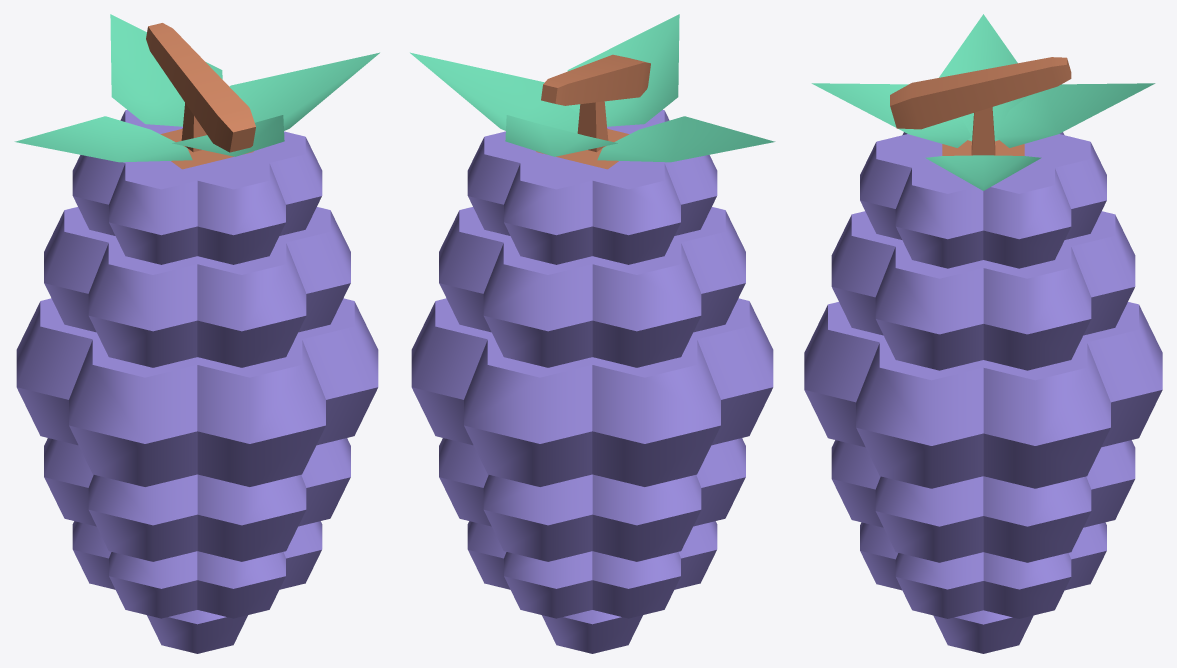
File: Grapes.glb
The picture shows the model from 3 angles, left to right: view 1: azimuth 30°, elevation 25°; view 2: azimuth 150°, elevation 25°; view 3: azimuth 270°, elevation 25°; orthographic projection.
Parts seen in each view (by area): view 1: grapes; view 2: grapes; view 3: grapes.
Part boxes in pixels (bbox=[...]): grapes: bbox=[14, 14, 379, 653]; grapes: bbox=[410, 14, 775, 653]; grapes: bbox=[804, 14, 1162, 653].
Size of the model in its own units: 0.279 by 0.4226 by 0.2386.
